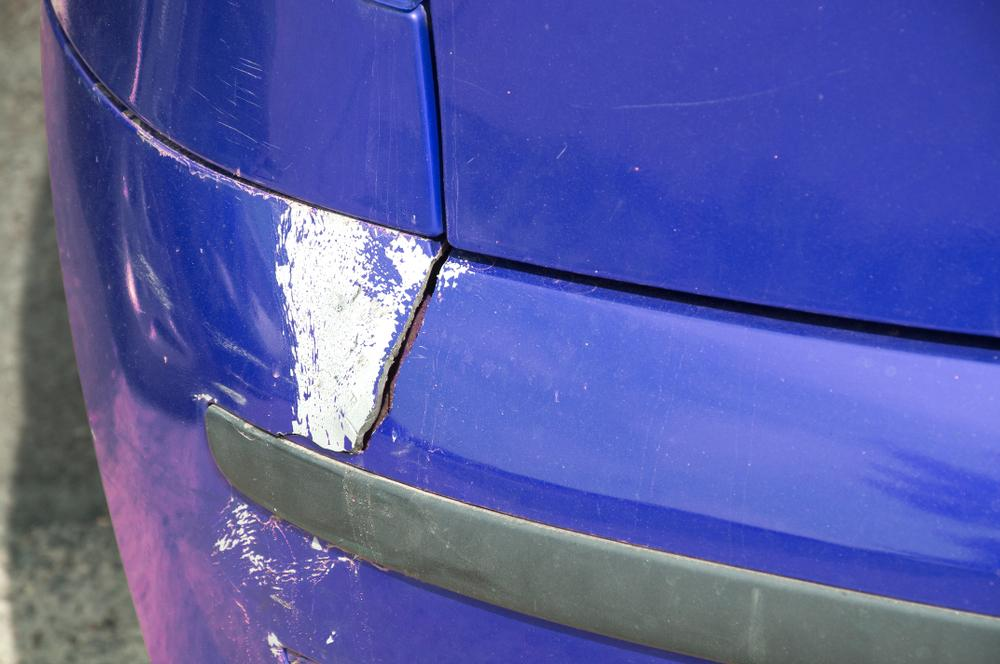crack: (355, 241, 451, 455)
scratch: (212, 499, 363, 662)
